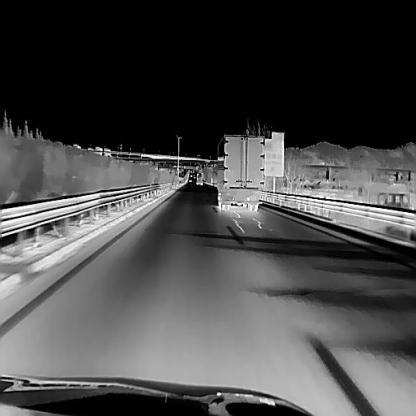car: (212, 133, 264, 210), (196, 172, 203, 185)
